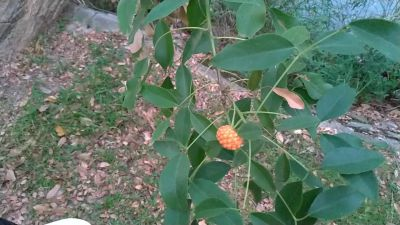eggs: (214, 121, 246, 151)
